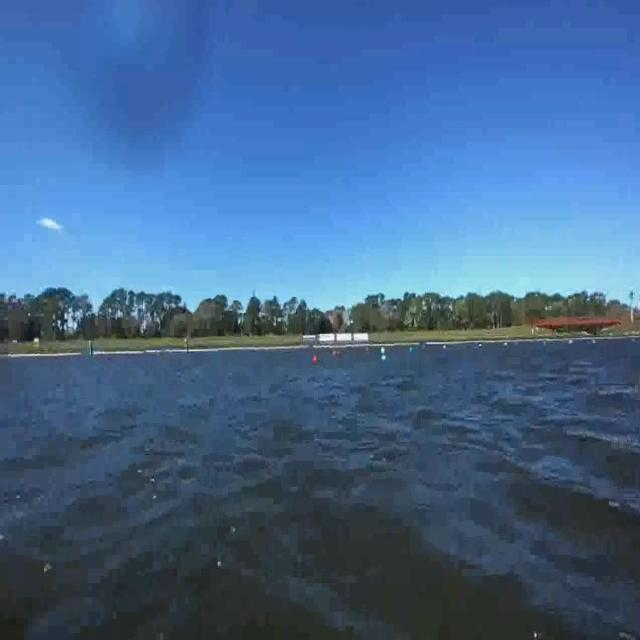red-buoy: (314, 356, 319, 366)
